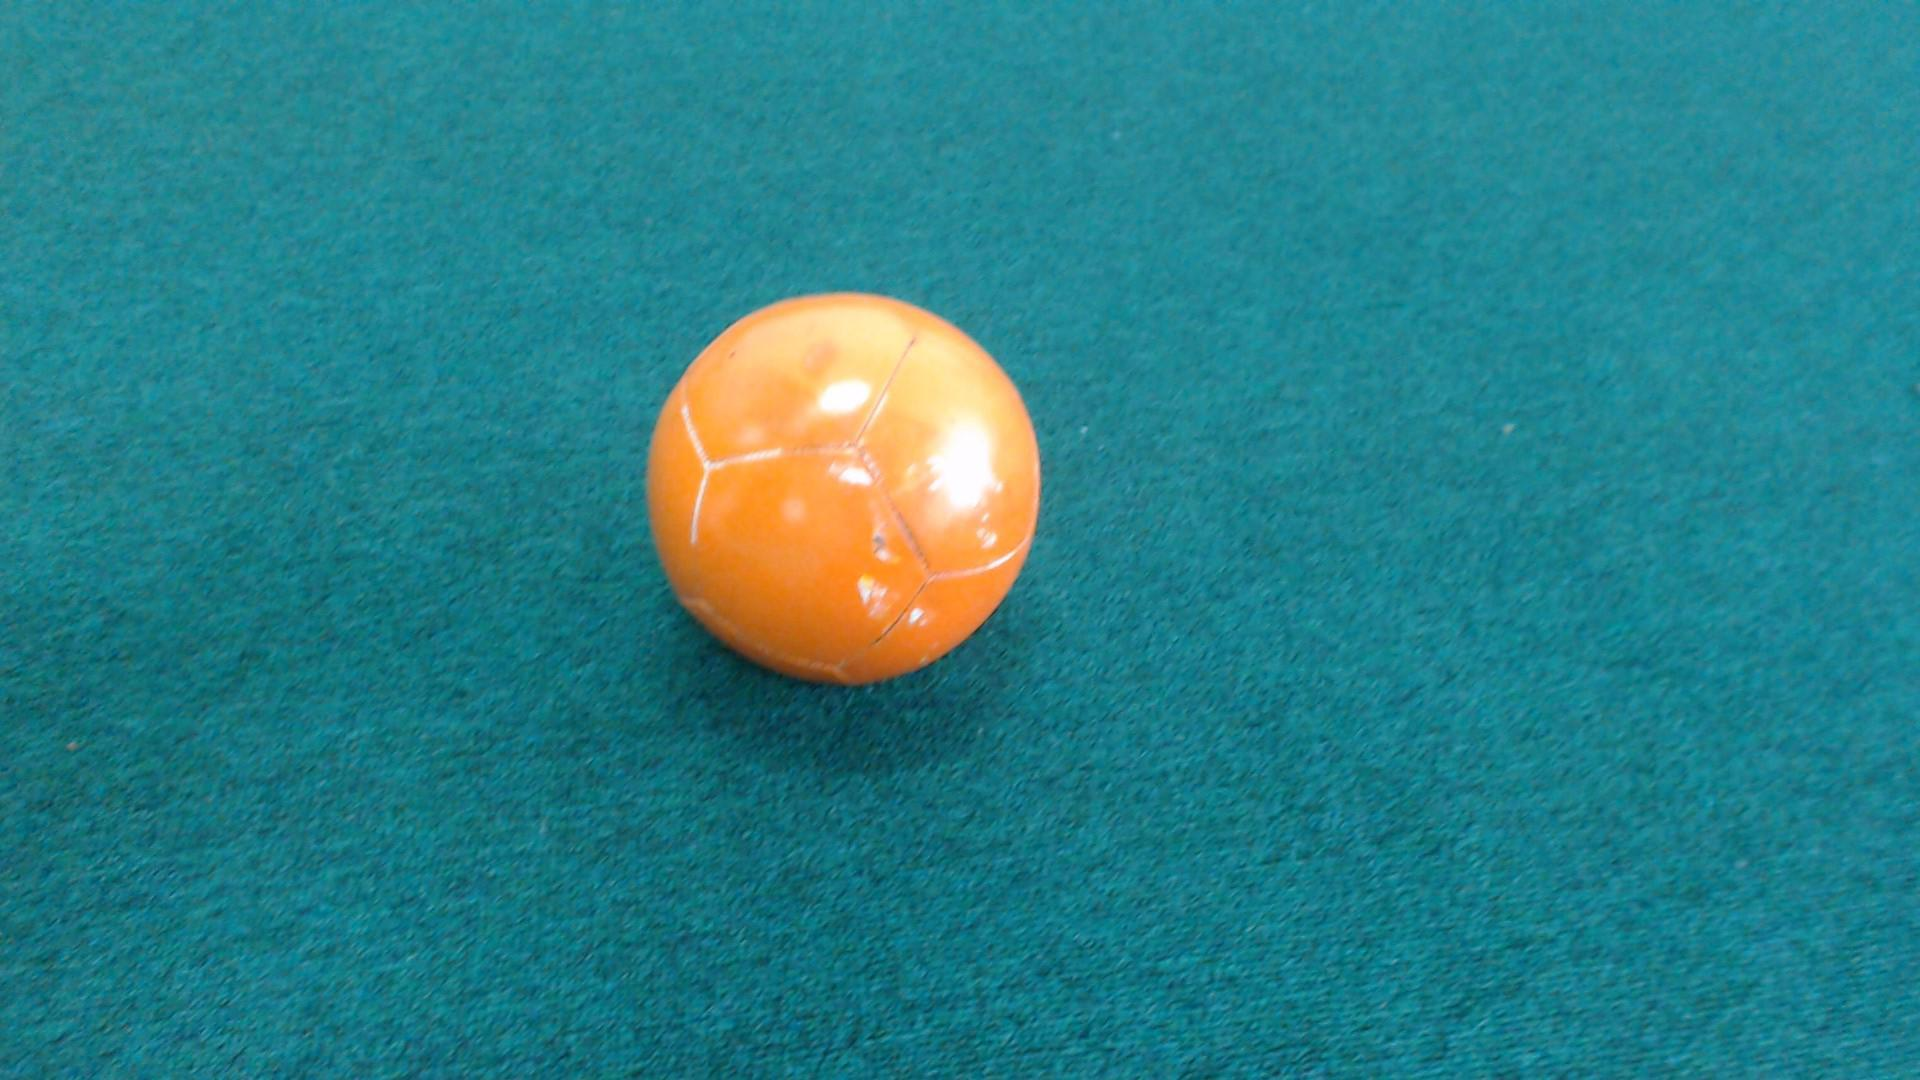bola: (592, 261, 1072, 694)
